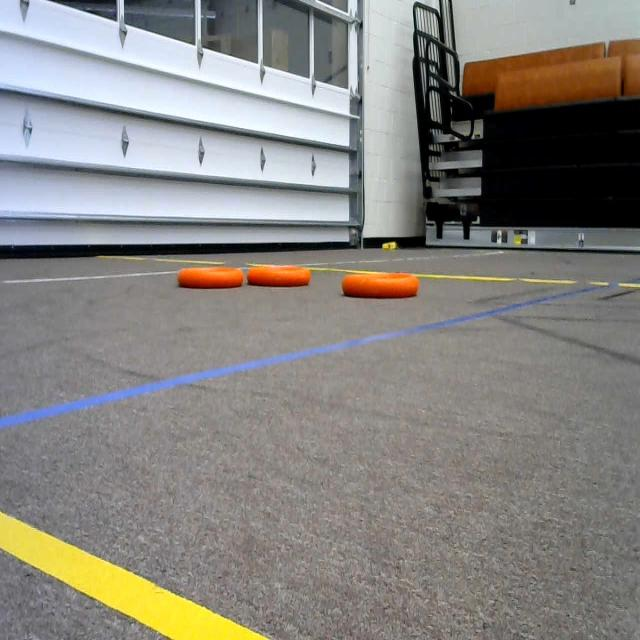note: (175, 247, 245, 295), (339, 261, 421, 299), (249, 254, 317, 297)
